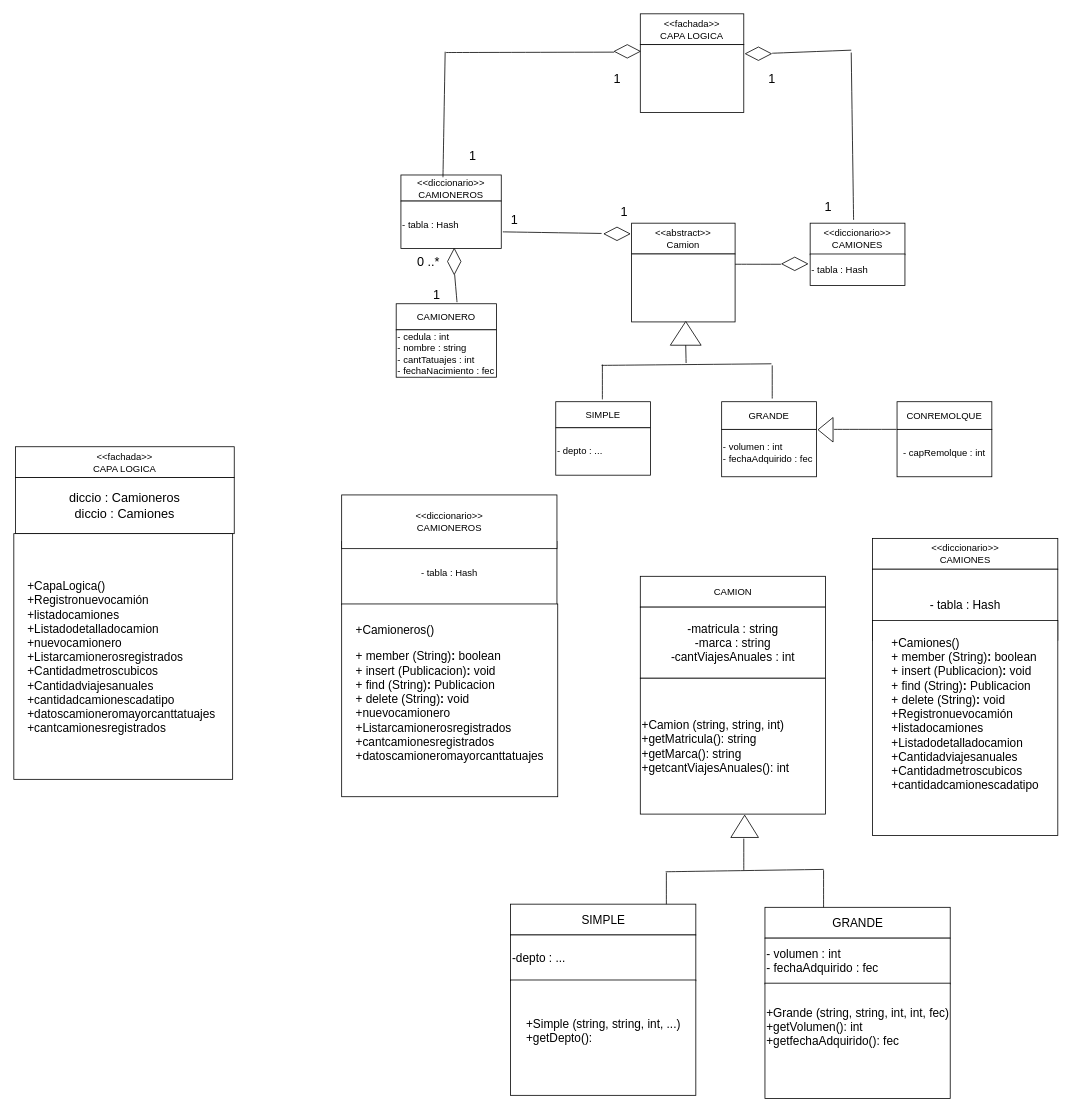
Some shapes in this 1072 by 1112 pixel diagram are drawn without their labels. The shapes that lost their labels are listed below. From the top down, each one's centre as x and y in pixels, then its label:
At pixel 692 78: "- diccio : Camioneros - diccio : Camiones".
At pixel 683 287: "- matricula : string - marca : string - cantViajesAnuales: int".
